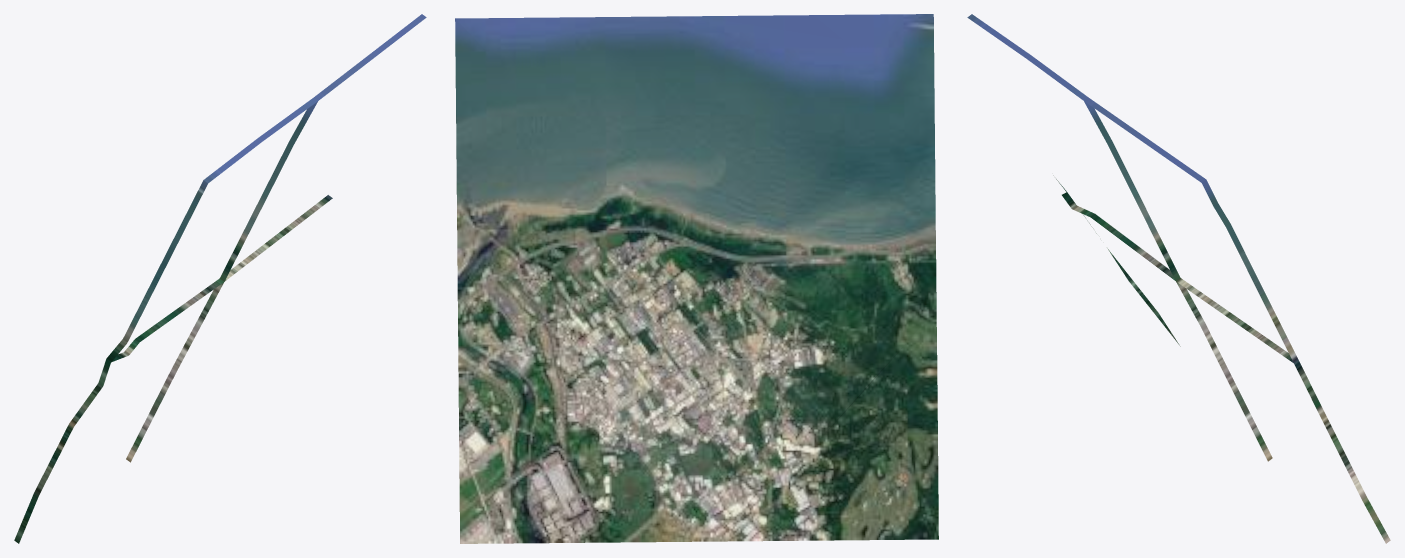
3 views of the same model, side by side, from view 1: azimuth 30°, elevation 25°; view 2: azimuth 150°, elevation 25°; view 3: azimuth 270°, elevation 25° (orthographic). The views are drawn at different scales.
Size of the model in its own units: 4935 by 4432 by 4135.
Materials: 1 (1 with a texture image).
